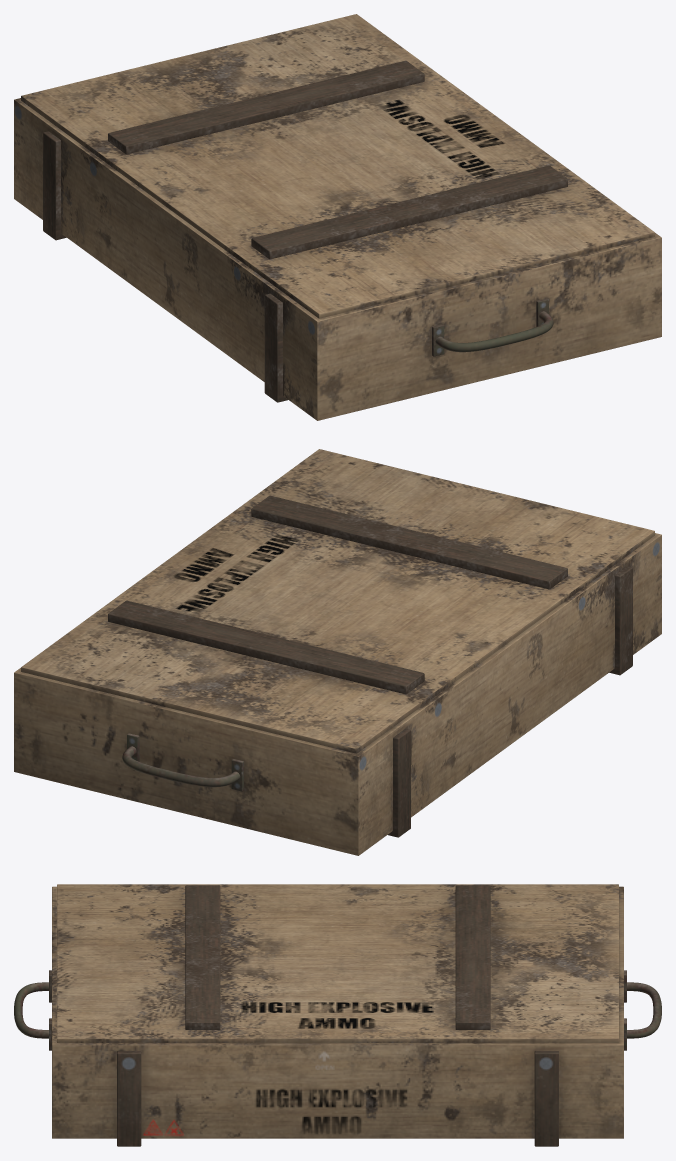
Rendered from military_ammo_crate.glb.
The picture shows the model from 3 angles, top to bottom: view 1: azimuth 30°, elevation 25°; view 2: azimuth 150°, elevation 25°; view 3: azimuth 270°, elevation 25°; orthographic projection. The views are drawn at different scales.
Parts seen in each view (by area): view 1: Object_3, Object_2, Object_6, Object_7, Object_4; view 2: Object_3, Object_2, Object_6, Object_7, Object_4; view 3: Object_3, Object_2, Object_6, Object_7, Object_4, Object_5.
Part boxes in pixels (x1,y1,x2,y2): Object_3: (21,14,654,318); Object_2: (14,98,661,420); Object_6: (108,60,567,259); Object_7: (43,131,287,402); Object_4: (435,311,553,352); Object_3: (21,449,654,753); Object_2: (14,533,661,855); Object_6: (108,495,567,694); Object_7: (388,566,632,837); Object_4: (122,746,240,787); Object_3: (57,884,618,1042); Object_2: (52,886,623,1138); Object_6: (185,885,490,1029); Object_7: (117,1051,558,1146); Object_4: (14,982,661,1038); Object_5: (49,970,626,1050).
Bounding box in the file's own units: 2.76 × 0.8739 × 4.61.
Materials: 6 (6 with a texture image).
